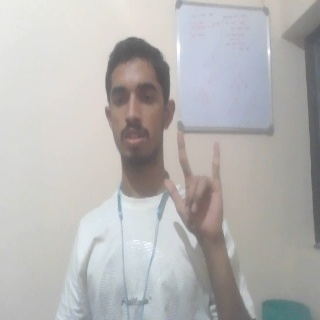Face: (102, 33, 176, 169)
I Love You: (163, 130, 233, 245)
